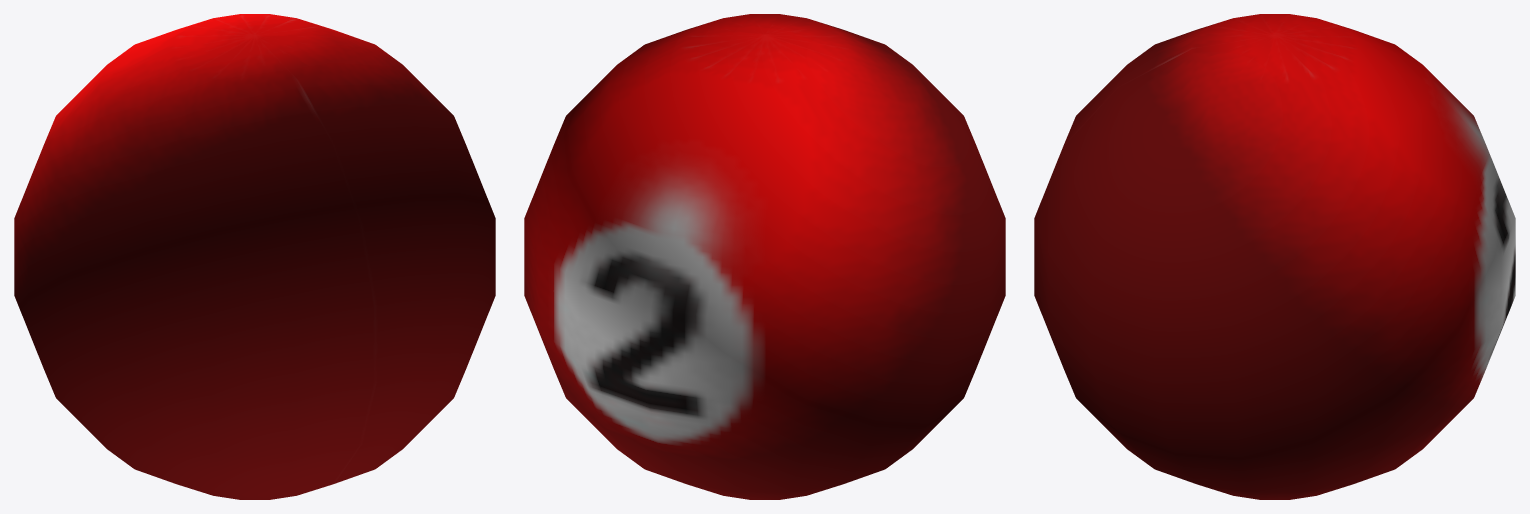
The model's file is list.ico.obj.
3 renders of one model, left to right at view 1: azimuth 30°, elevation 25°; view 2: azimuth 150°, elevation 25°; view 3: azimuth 270°, elevation 25°, orthographic.
Size of the model in its own units: 4.8 by 4.95 by 4.87.
1 material, 1 textured.
